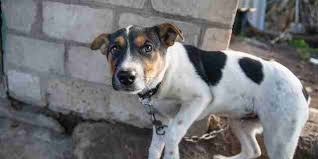dog: (90, 20, 308, 159)
